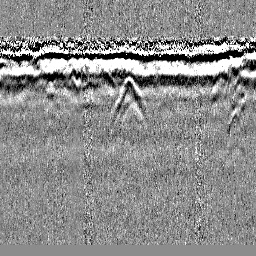cavity: (114, 76, 147, 114)
